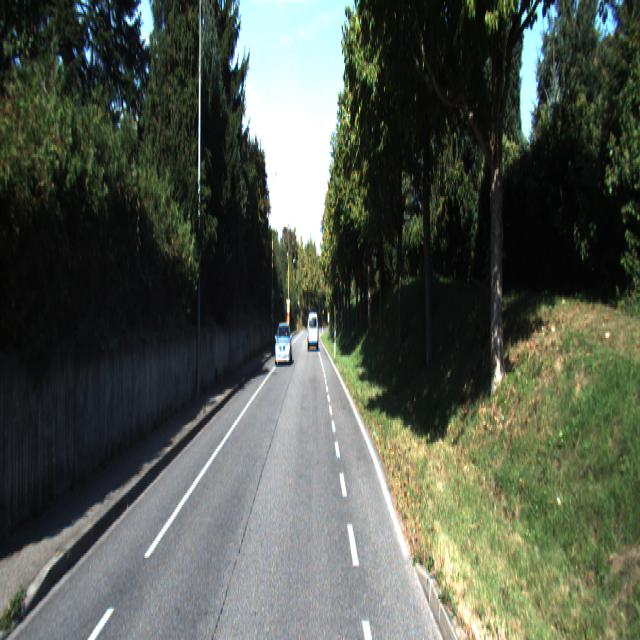Car: (274, 321, 292, 366)
Van: (307, 311, 319, 352)
